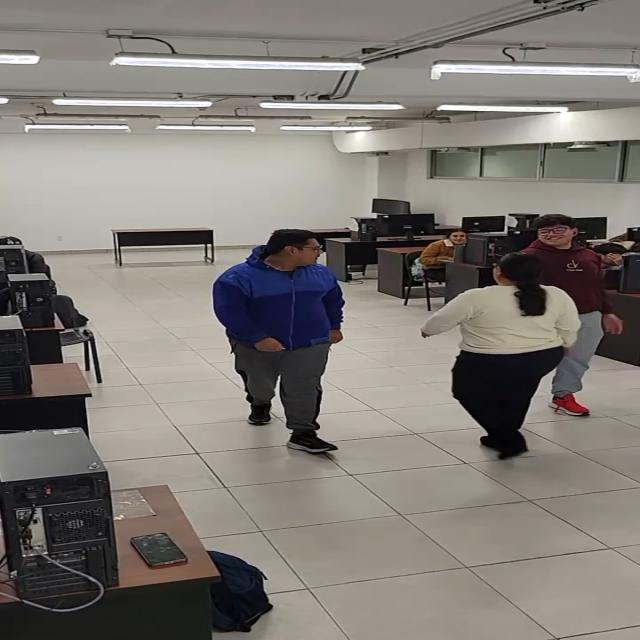Persona: (418, 252, 582, 462), (211, 226, 350, 459), (502, 212, 622, 429)
